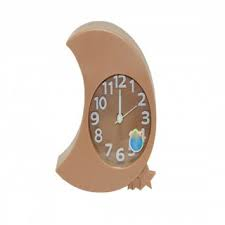alarm_clock: (47, 19, 169, 191), (47, 24, 169, 191), (53, 19, 169, 191), (53, 19, 155, 191)
